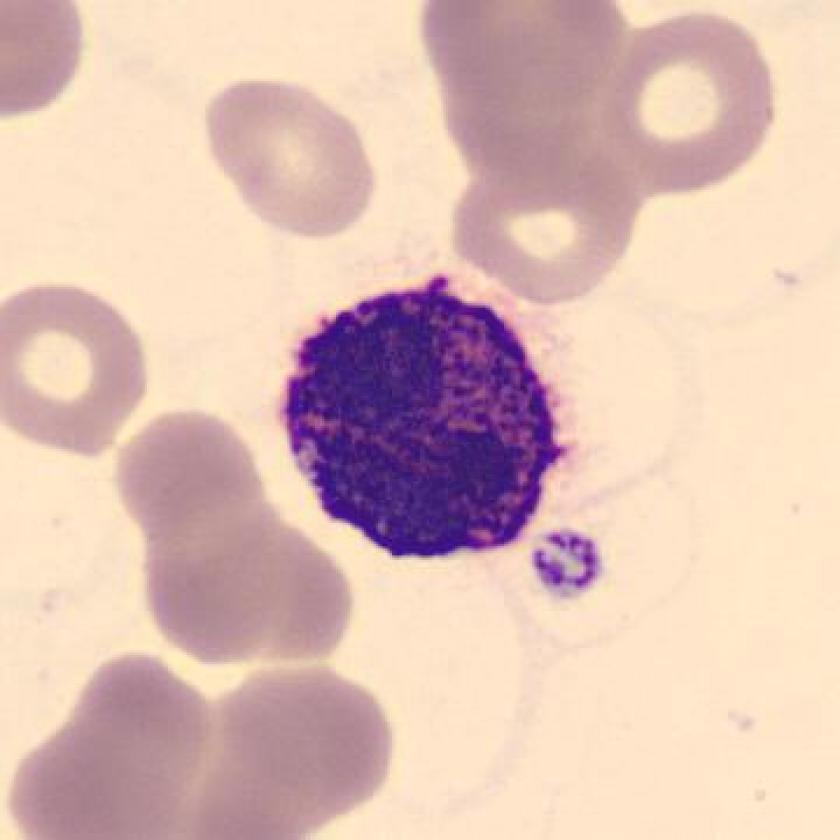basophil: (267, 267, 587, 582)
